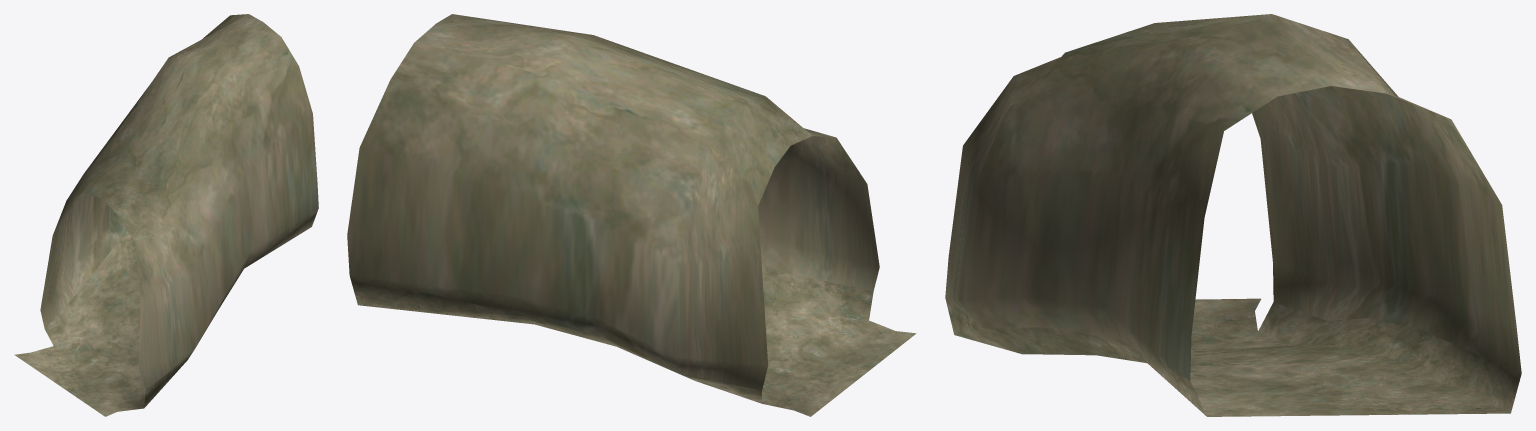
The model's file is EKH_GROTTO_PS_GR_TUNNEL04.fbx.
3 renders of one model, left to right at view 1: azimuth 30°, elevation 25°; view 2: azimuth 150°, elevation 25°; view 3: azimuth 270°, elevation 25°, orthographic. The views are drawn at different scales.
Parts seen in each view (by area): view 1: EKH_GROTTO_PS_GR_TUNNEL04; view 2: EKH_GROTTO_PS_GR_TUNNEL04; view 3: EKH_GROTTO_PS_GR_TUNNEL04.
Part boxes in pixels (x1,y1,x2,y2): EKH_GROTTO_PS_GR_TUNNEL04: [14, 14, 318, 416]; EKH_GROTTO_PS_GR_TUNNEL04: [347, 14, 916, 416]; EKH_GROTTO_PS_GR_TUNNEL04: [945, 14, 1521, 416].
Size of the model in its own units: 46702 by 39538 by 46622.
1 material, 1 textured.
